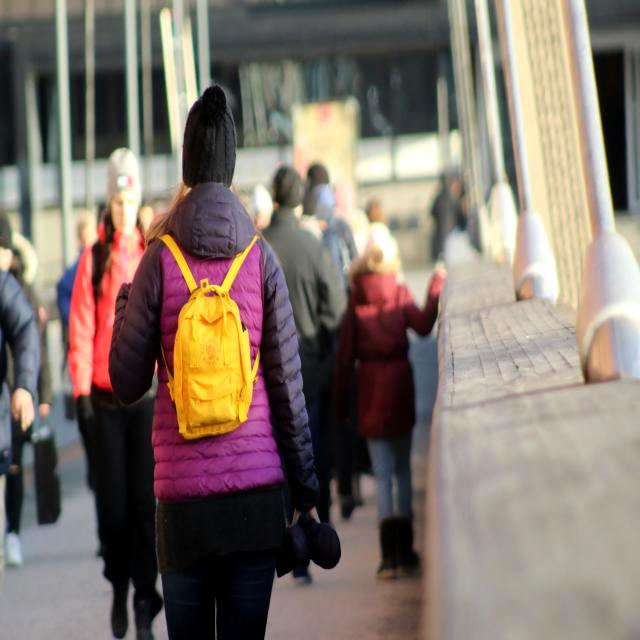no_hard_hat: (182, 85, 237, 188)
person: (109, 86, 319, 640)
